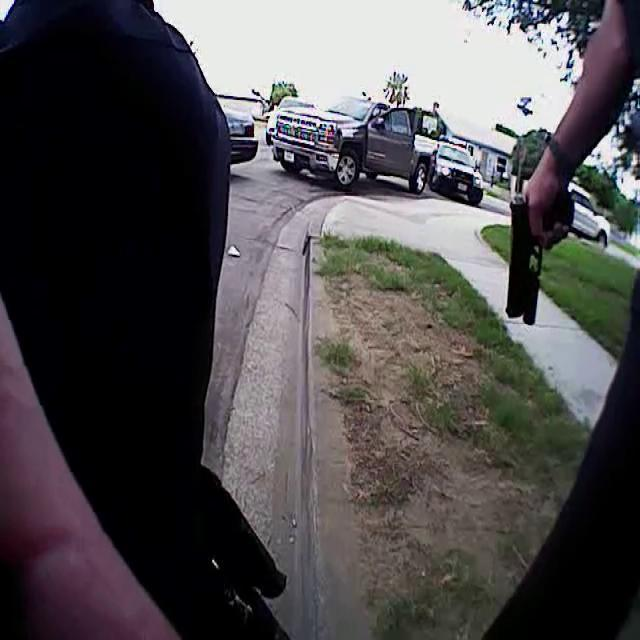gun: (495, 171, 585, 325)
